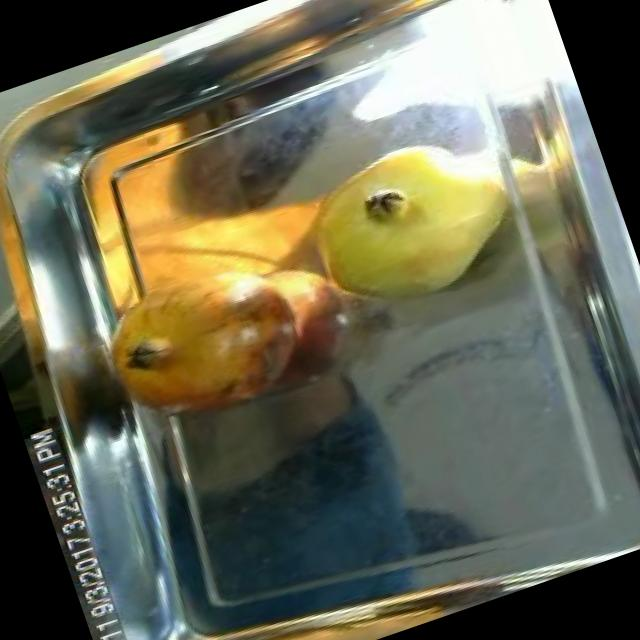fruit: (270, 110, 539, 343), (78, 231, 336, 453)
